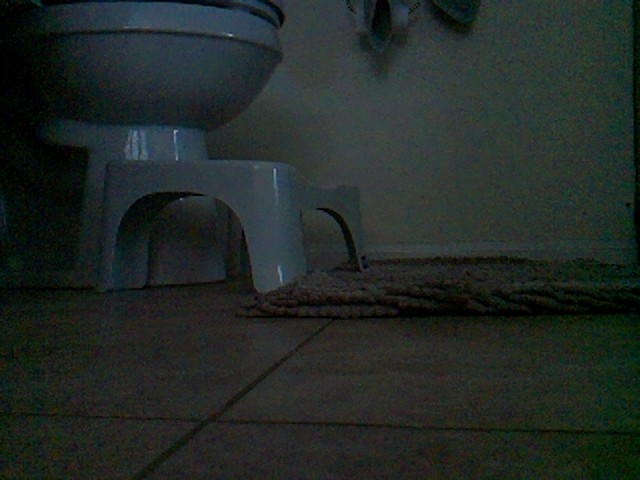Drivable Area: (0, 300, 640, 480)
Obstacle: (6, 0, 370, 294)
